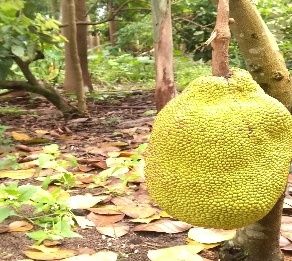Mit: (146, 70, 290, 226)
